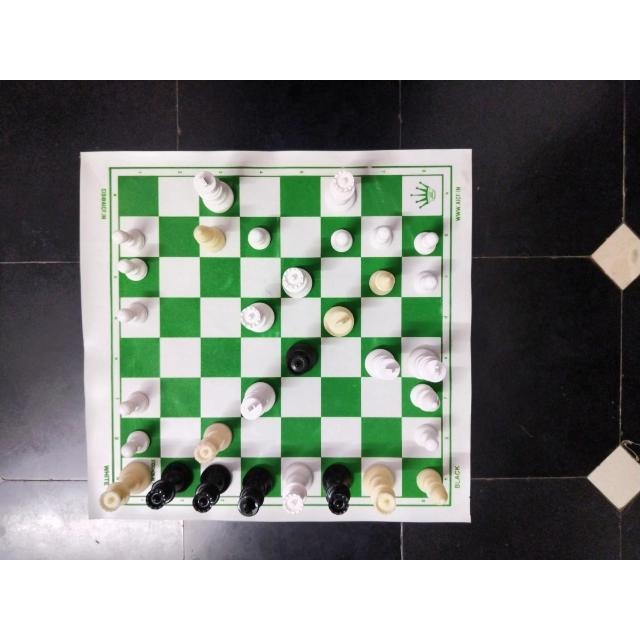black-king: (235, 466, 277, 518)
black-queen: (147, 457, 189, 511), (193, 463, 234, 514), (323, 458, 357, 518), (286, 345, 320, 377)
white-bishop: (412, 467, 452, 506), (192, 220, 230, 255), (364, 264, 396, 300), (410, 382, 446, 412)
white-king: (402, 338, 446, 382), (193, 172, 237, 212), (242, 380, 278, 421), (323, 300, 361, 336), (365, 342, 399, 380)
white-pawn: (116, 378, 152, 418), (112, 223, 154, 257), (111, 291, 151, 324), (120, 424, 158, 457), (369, 221, 401, 254), (410, 263, 441, 297), (408, 226, 441, 257), (117, 256, 156, 282), (328, 225, 356, 261), (243, 222, 278, 248), (412, 422, 438, 454)
white-queen: (95, 463, 151, 516), (188, 422, 234, 462), (364, 464, 400, 515), (323, 169, 361, 217), (240, 298, 279, 338), (281, 467, 313, 515), (281, 263, 316, 297)
